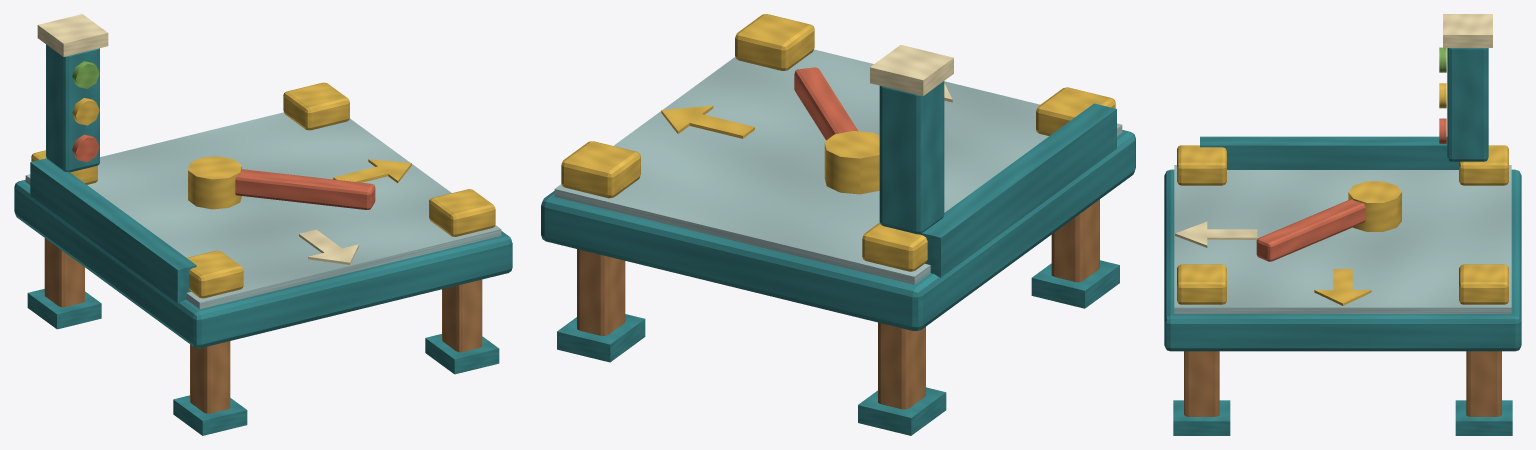
File: industry-diverter.glb
The picture shows the model from 3 angles, left to right: view 1: azimuth 30°, elevation 25°; view 2: azimuth 150°, elevation 25°; view 3: azimuth 270°, elevation 25°; orthographic projection. The views are drawn at different scales.
Visible parts, largest first — view 1: industry-diverter-mesh; view 2: industry-diverter-mesh; view 3: industry-diverter-mesh.
Part boxes in pixels (left/top/right/bottom): industry-diverter-mesh: left=14, top=14, right=512, bottom=435; industry-diverter-mesh: left=541, top=14, right=1135, bottom=435; industry-diverter-mesh: left=1164, top=14, right=1521, bottom=435.
Bounding box in the file's own units: 2 × 1.74 × 2.
Materials: 1 (1 with a texture image).
